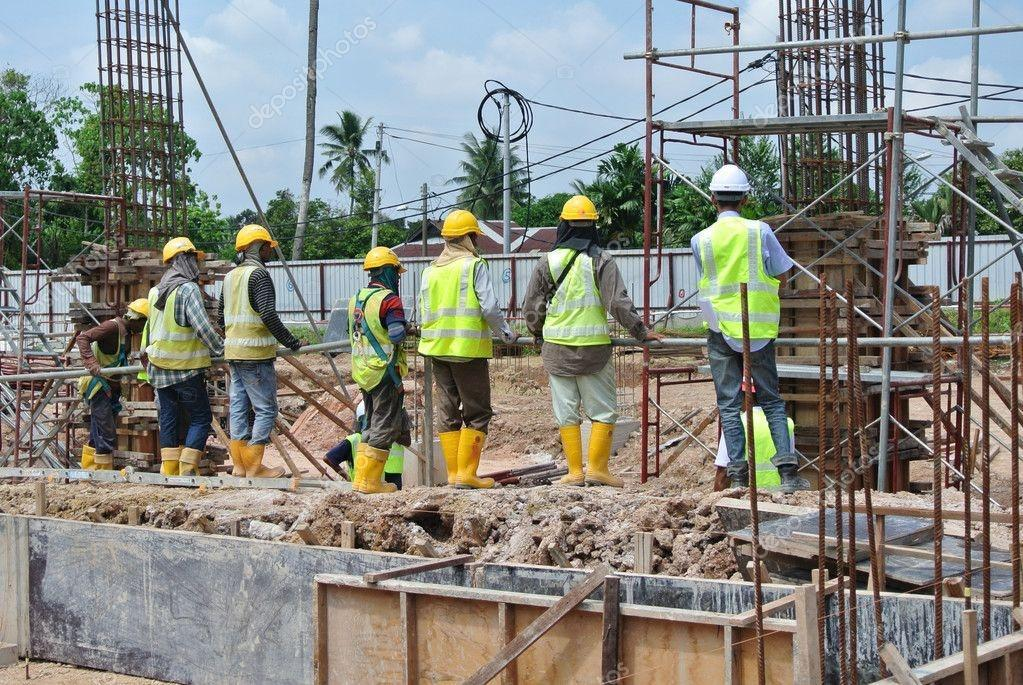helmet: (705, 159, 758, 206), (557, 195, 603, 230), (157, 233, 200, 265)
person: (695, 159, 802, 501), (523, 191, 637, 491), (417, 209, 526, 501), (125, 225, 212, 477), (219, 223, 296, 478), (347, 245, 415, 491)
vest: (701, 221, 794, 347), (421, 257, 498, 370), (539, 245, 613, 349), (223, 267, 276, 370), (145, 293, 207, 369)
